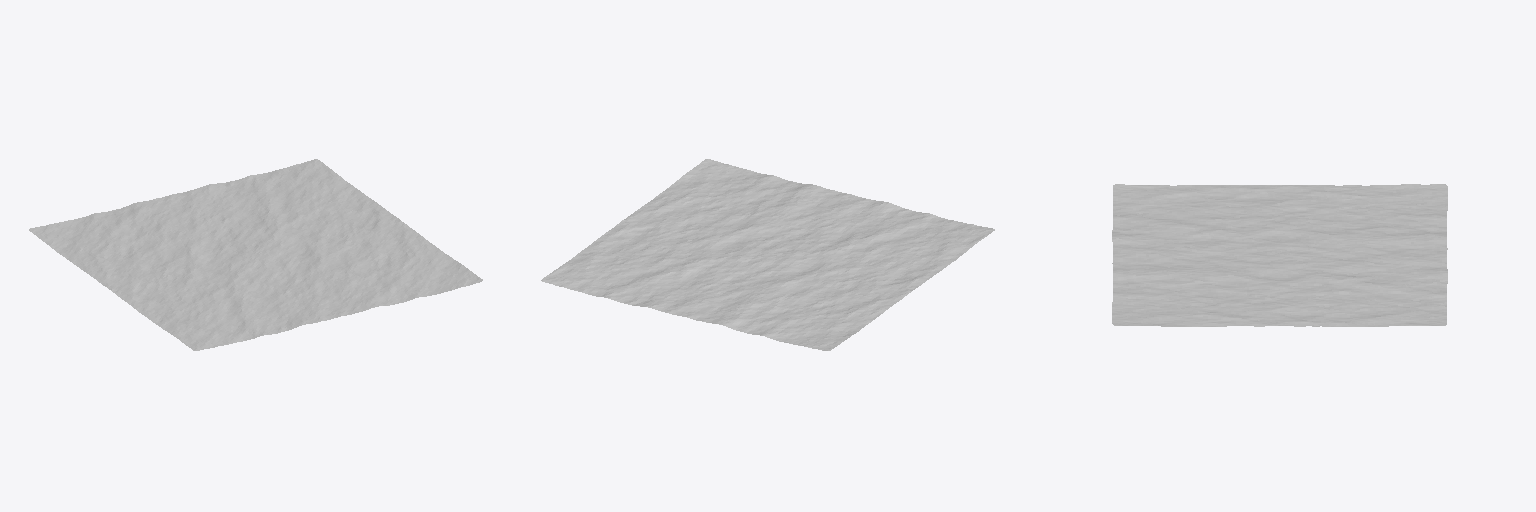
File: sea_000038.obj
3 renders of one model, left to right at view 1: azimuth 30°, elevation 25°; view 2: azimuth 150°, elevation 25°; view 3: azimuth 270°, elevation 25°, orthographic.
Visible parts, largest first — view 1: Plane; view 2: Plane; view 3: Plane.
Boxes of the visible parts, box(x1,y1,x2,y2) form: Plane: box(29, 159, 482, 350); Plane: box(541, 159, 994, 350); Plane: box(1112, 184, 1447, 326).
Size of the model in its own units: 201 by 1.7 by 201.